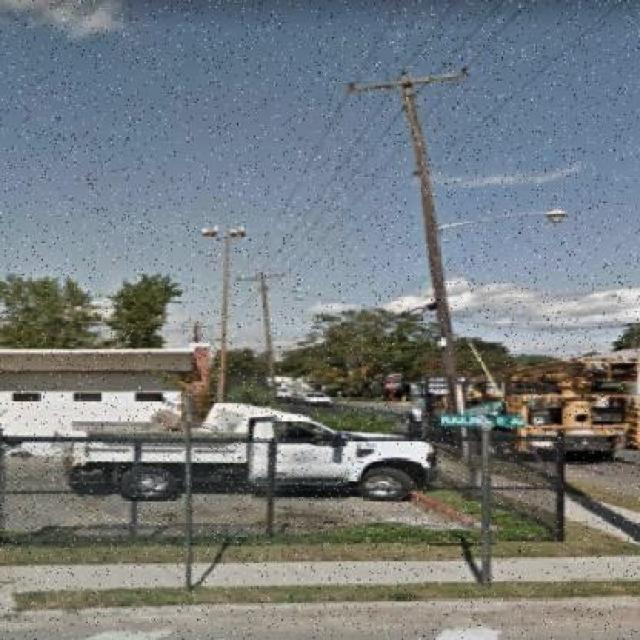crossarm: (345, 68, 469, 97)
pole: (391, 71, 454, 409)
wire: (313, 0, 631, 265), (284, 0, 539, 276), (273, 0, 497, 272), (257, 0, 460, 274), (238, 0, 406, 276)
